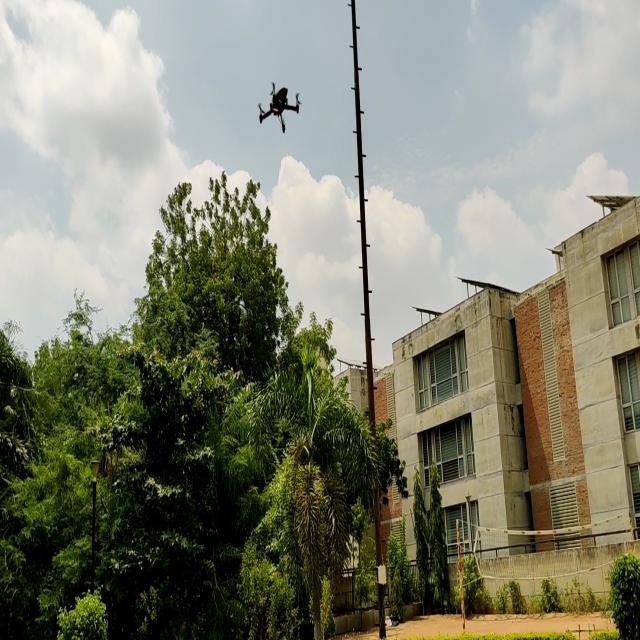drone: (257, 77, 305, 143)
